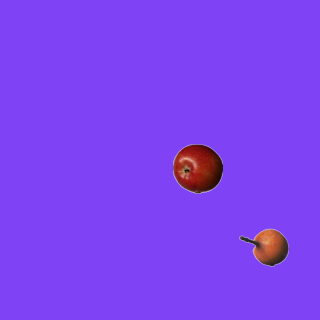Apple Braeburn: (172, 143, 222, 193)
Granadilla: (238, 222, 288, 272)
